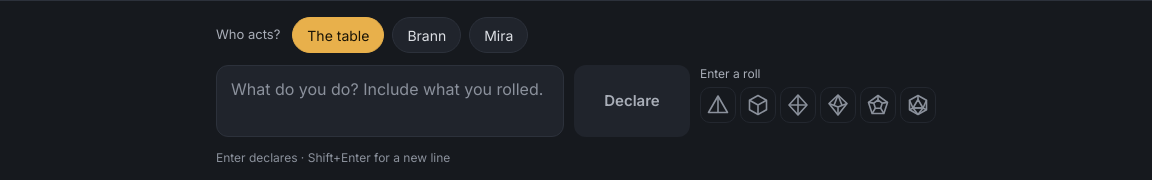
it: ActionForm › offers the dice to a chosen character before the turn order is fixed
The image size is (1152, 180).
Click the radio button labelled "Mira" at (499, 35), box [469, 17, 528, 53]
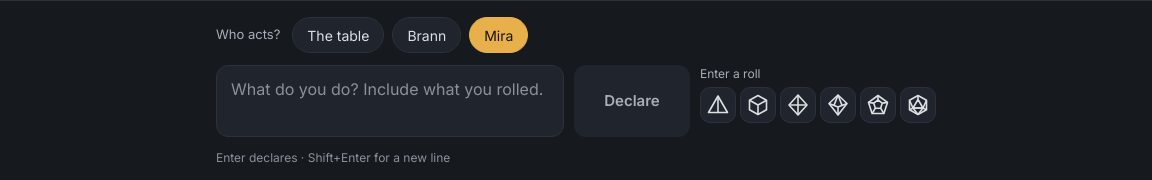
Check: the button named "d20" is enabled, box [900, 87, 936, 123]
